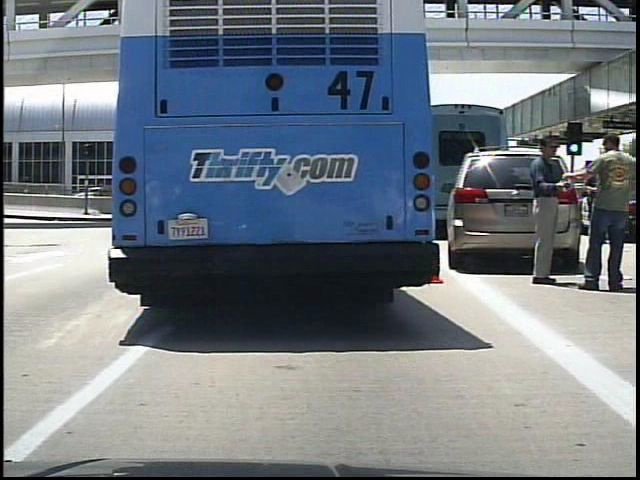person: (517, 129, 591, 294), (573, 122, 633, 295)
